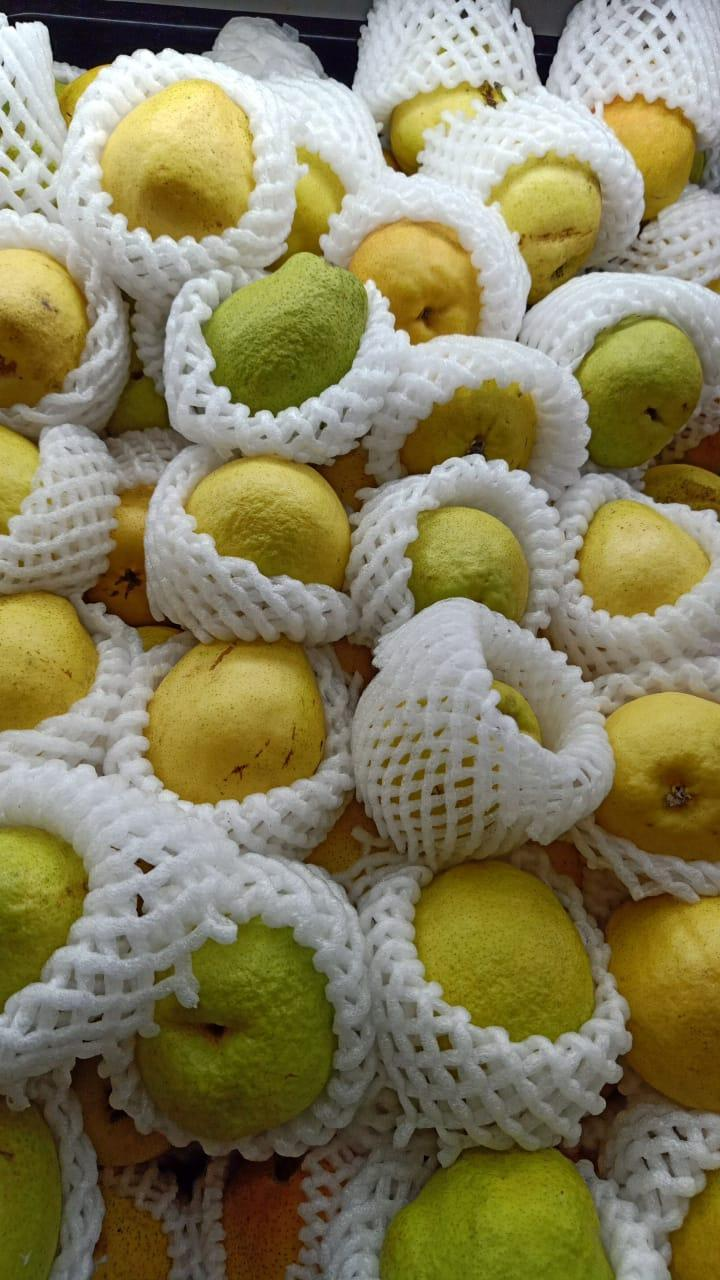Pear Unripe: (166, 240, 378, 437)
